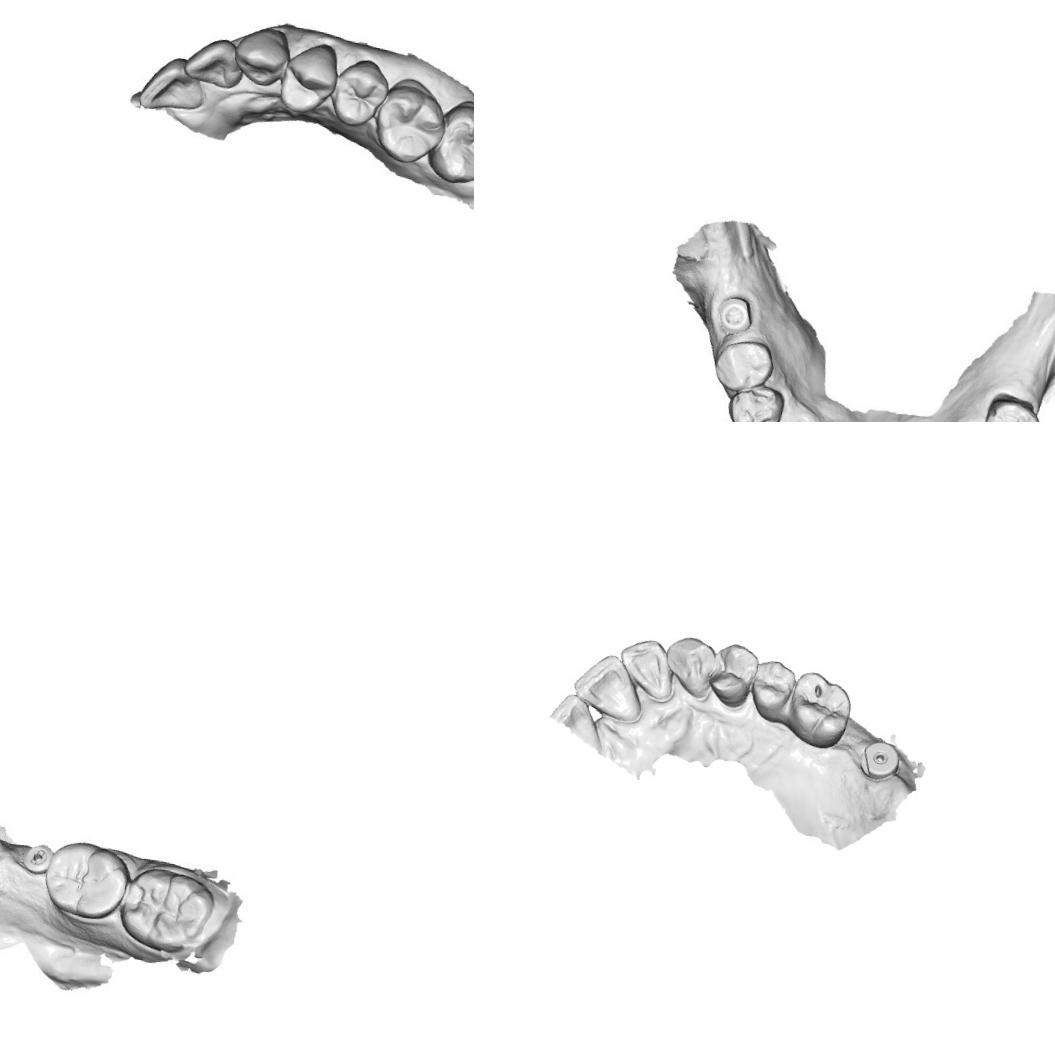canine: (661, 634, 718, 704), (233, 25, 290, 88)
implant: (714, 285, 760, 339), (856, 738, 903, 784)
implant_minus: (17, 841, 54, 876)
incisor: (569, 650, 648, 724), (613, 633, 678, 706), (134, 54, 209, 117), (184, 35, 243, 89)
molar: (114, 864, 218, 956), (38, 836, 131, 924), (365, 76, 448, 170), (784, 668, 854, 752), (423, 96, 474, 189)
premolar: (327, 52, 394, 132), (274, 40, 342, 118), (706, 640, 761, 710), (711, 337, 775, 395), (747, 657, 798, 724), (723, 377, 790, 422), (976, 392, 1051, 422)
